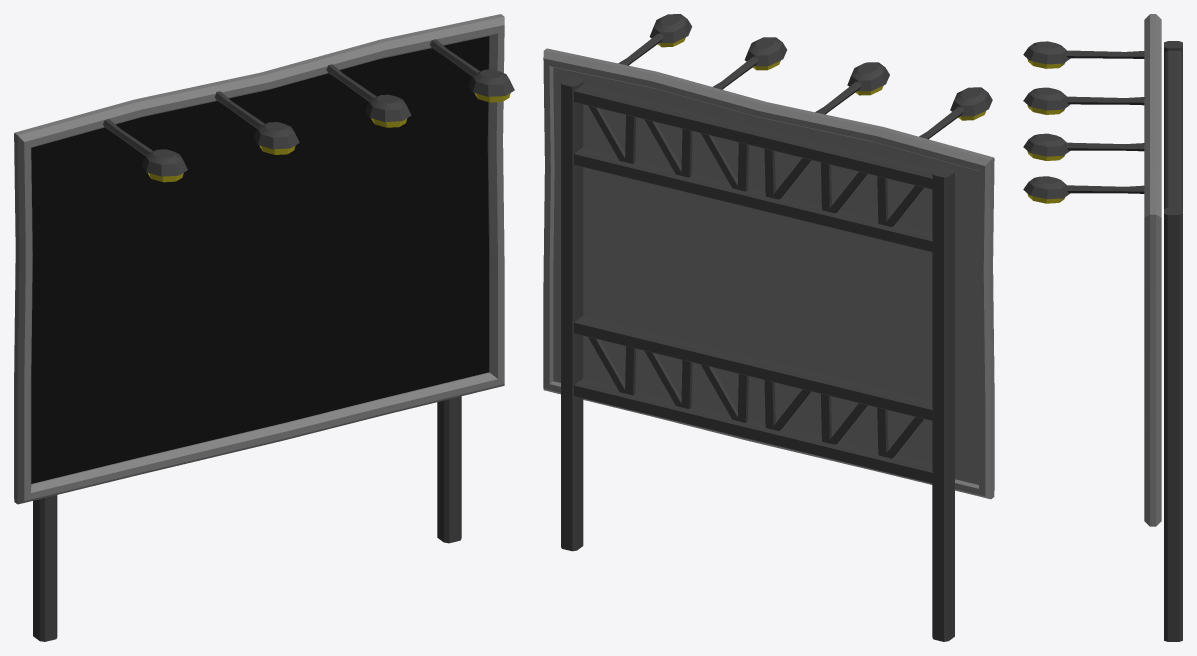
File: SM_screen_04.fbx
The picture shows the model from 3 angles, left to right: view 1: azimuth 30°, elevation 25°; view 2: azimuth 150°, elevation 25°; view 3: azimuth 270°, elevation 25°; orthographic projection. The views are drawn at different scales.
Parts seen in each view (by area): view 1: Box152; view 2: Box152; view 3: Box152.
Part boxes in pixels (box(x1,y1,x2,y2)): Box152: box(14, 14, 514, 641); Box152: box(543, 14, 994, 641); Box152: box(1023, 14, 1182, 641).
Bounding box in the file's own units: 212 × 219 × 71.13.
